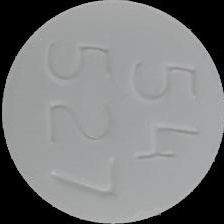43353-814: (0, 0, 224, 224)
